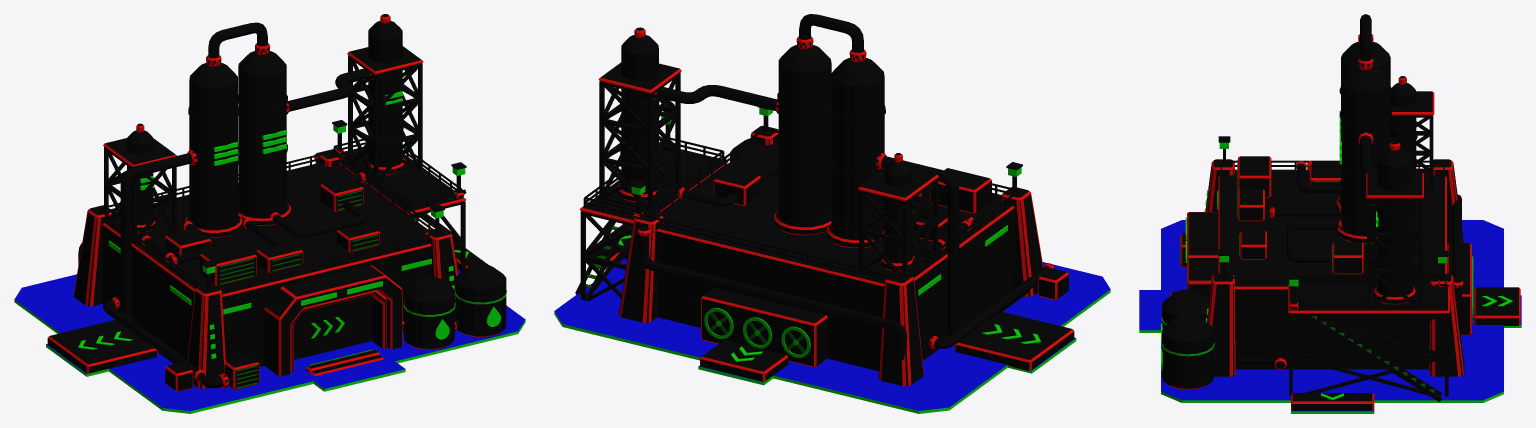
The model's file is SM_Holo_FluidPlant_T3.fbx.
The picture shows the model from 3 angles, left to right: view 1: azimuth 30°, elevation 25°; view 2: azimuth 150°, elevation 25°; view 3: azimuth 270°, elevation 25°; orthographic projection. The views are drawn at different scales.
Visible parts, largest first — view 1: SM_Holo_FluidPlant_T3; view 2: SM_Holo_FluidPlant_T3; view 3: SM_Holo_FluidPlant_T3.
Part boxes in pixels (bbox=[...]): SM_Holo_FluidPlant_T3: bbox=[14, 14, 525, 413]; SM_Holo_FluidPlant_T3: bbox=[554, 14, 1110, 413]; SM_Holo_FluidPlant_T3: bbox=[1139, 14, 1521, 413].
Size of the model in its own units: 46 by 30.13 by 36.8.
